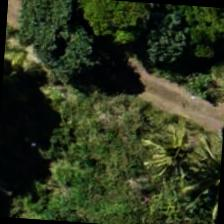Kelapa_Sawit: (124, 114, 220, 210)
